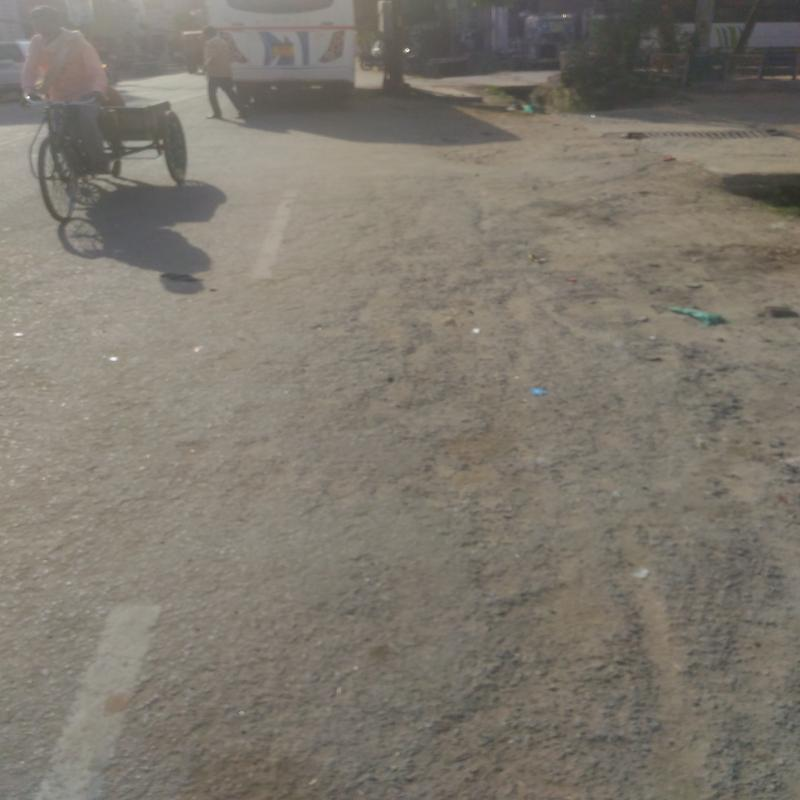bus: (187, 2, 395, 106)
